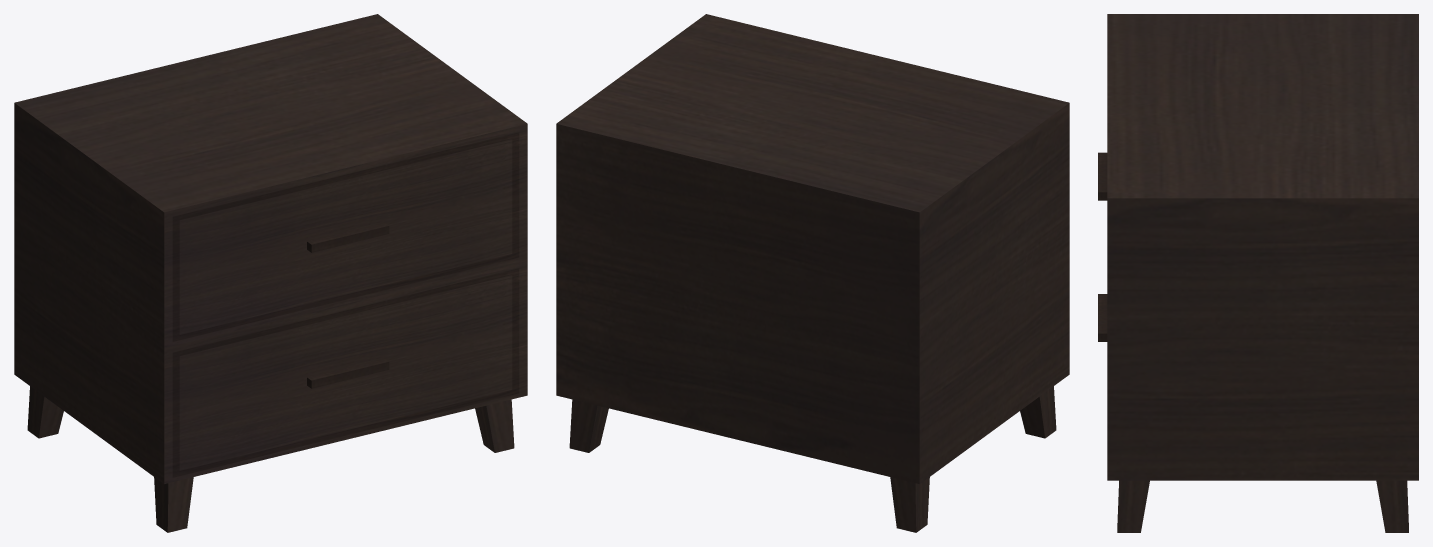
The model's file is Drawer.fbx.
3 views of the same model, side by side, from view 1: azimuth 30°, elevation 25°; view 2: azimuth 150°, elevation 25°; view 3: azimuth 270°, elevation 25° (orthographic). The views are drawn at different scales.
Parts seen in each view (by area): view 1: Drawer; view 2: Drawer; view 3: Drawer.
Part boxes in pixels (<box>): Drawer: <box>14,14,527,532</box>; Drawer: <box>556,14,1069,532</box>; Drawer: <box>1098,14,1418,532</box>.
Bounding box in the file's own units: 70 × 60 × 51.5.
Materials: 1 (1 with a texture image).
